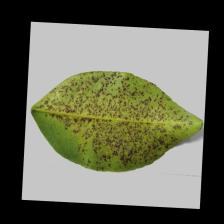canker: (91, 86, 151, 148)
